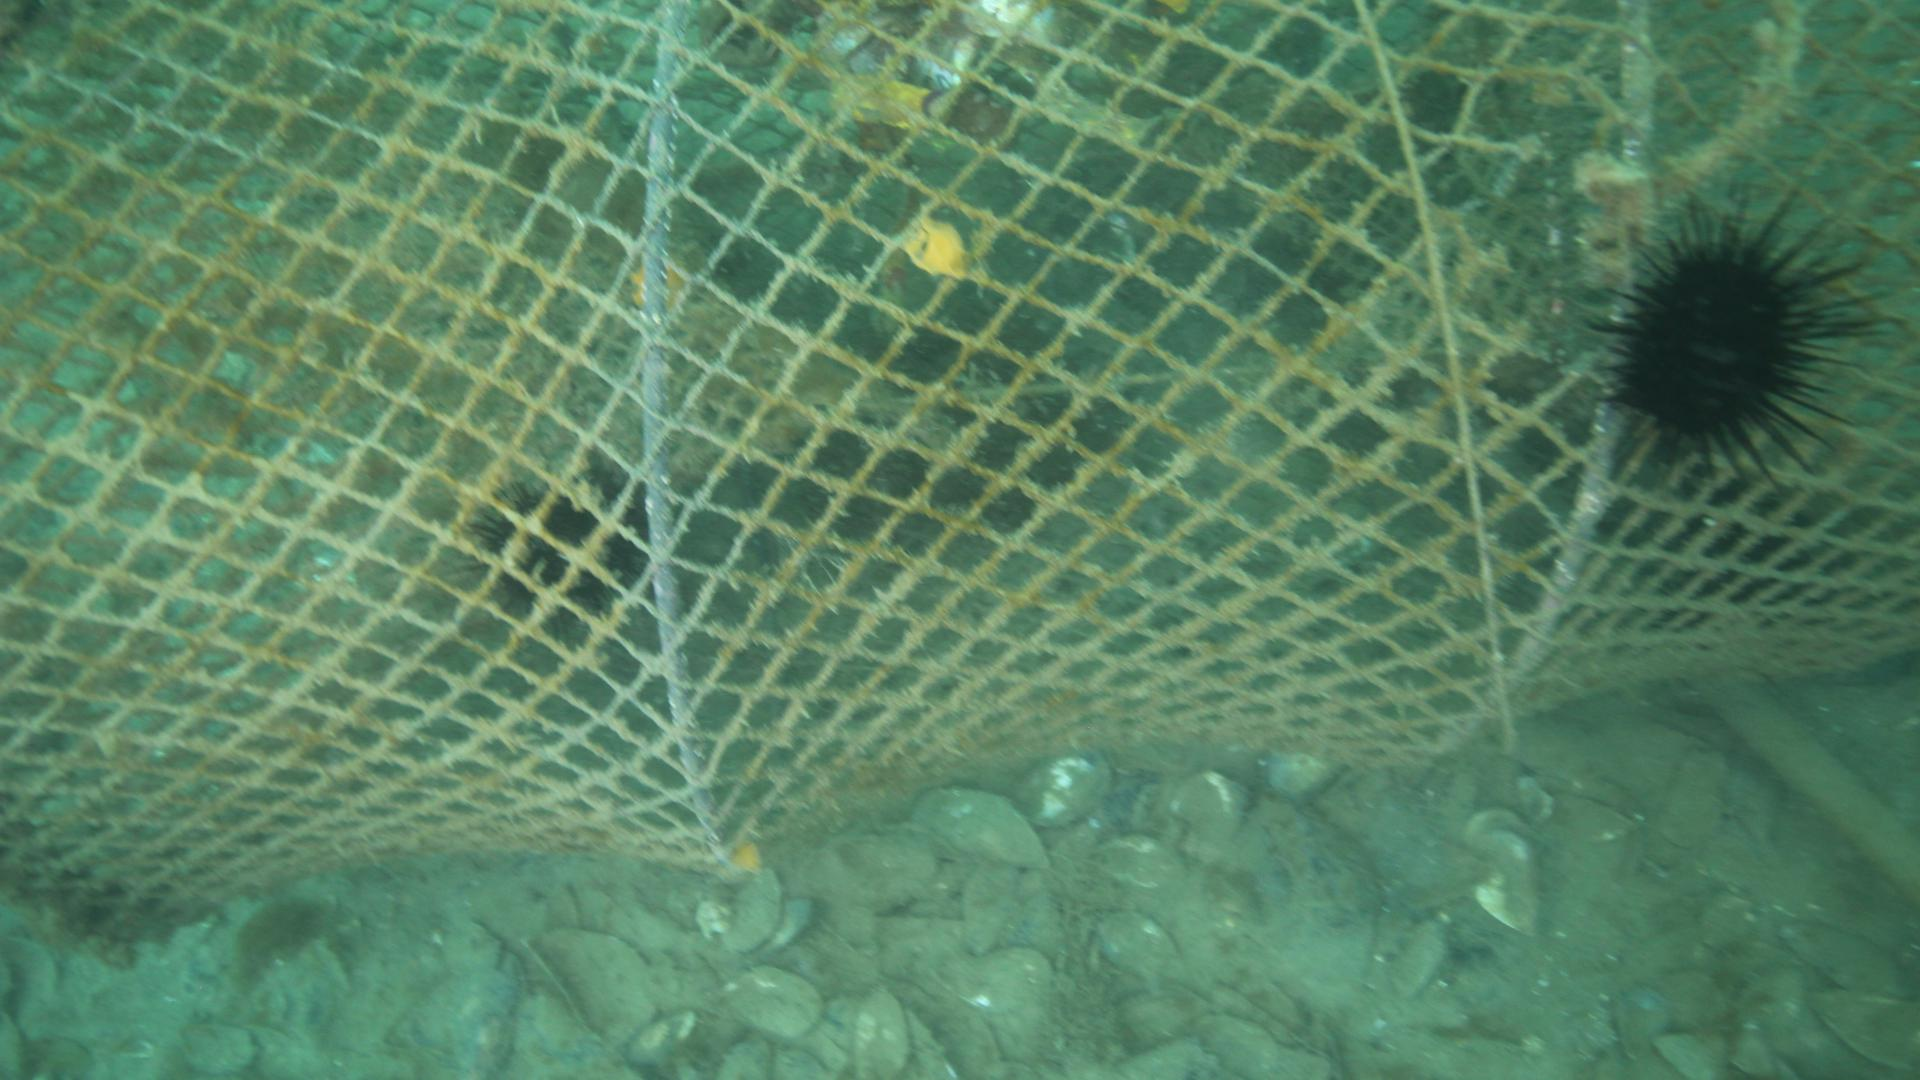spring fish trap: (3, 0, 1920, 945)
